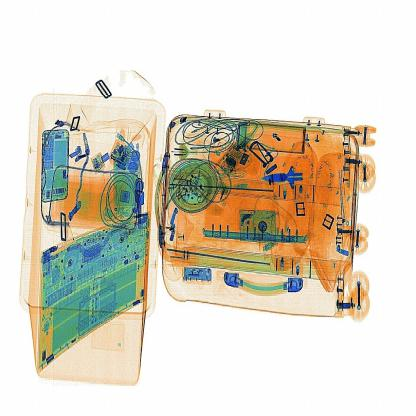gun: (259, 150, 323, 208)
